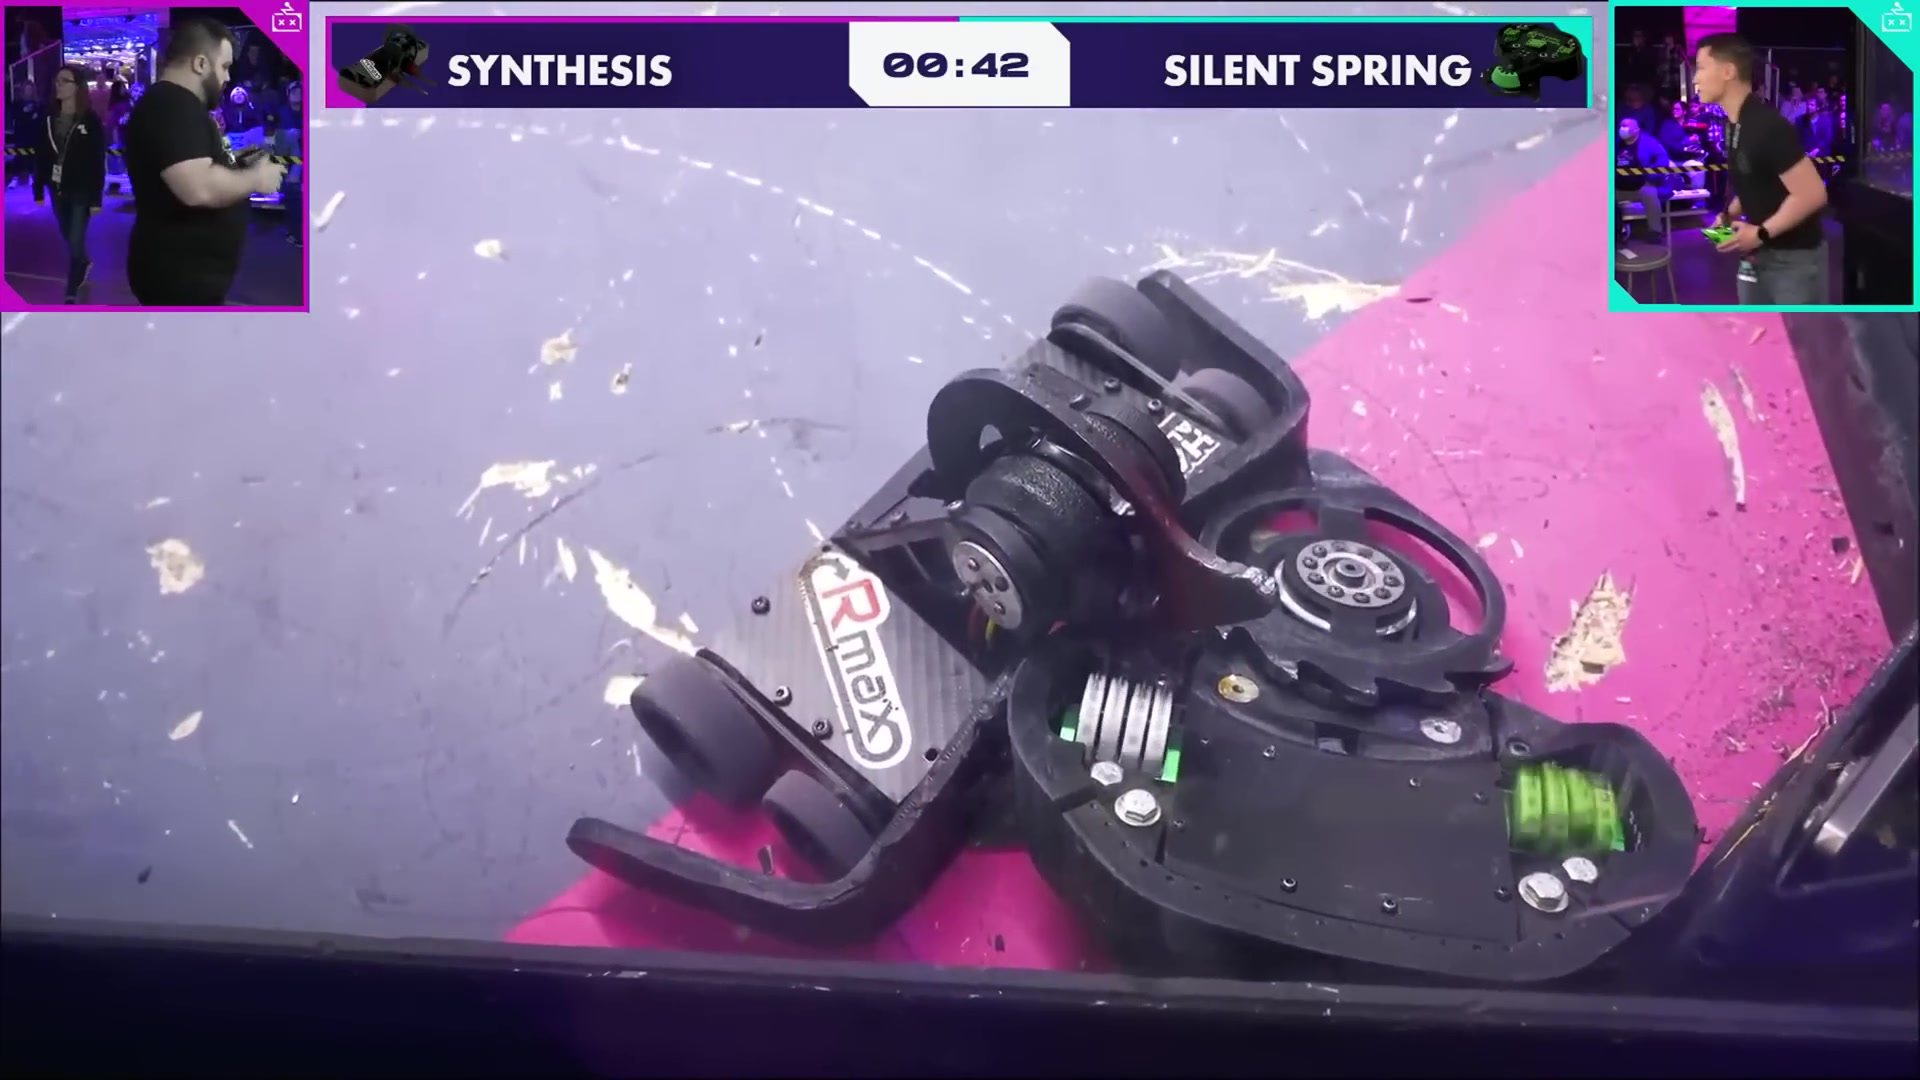combatbot: (564, 273, 1312, 942), (1007, 444, 1727, 993)
